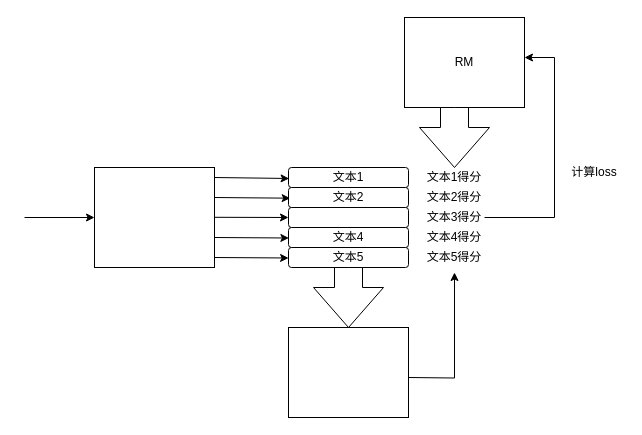
The diagram is 642 pixels wide and 435 high, and some of its shapes have lost their labels. The centre of each missing label's shape, as x and y in pixels:
GPT: (154,217)
人工排序: (348,372)
文本3: (348,217)
